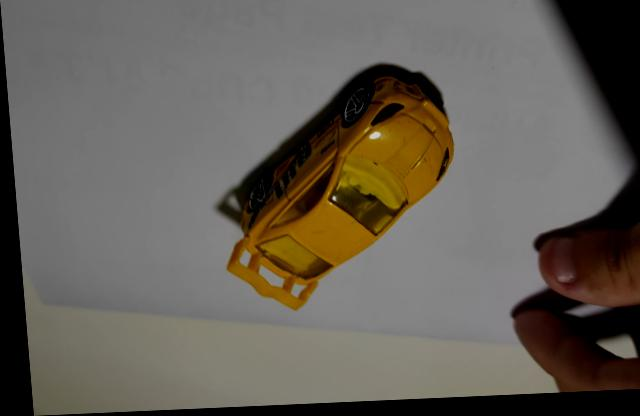07_RHLTURBO: (222, 74, 451, 312)
